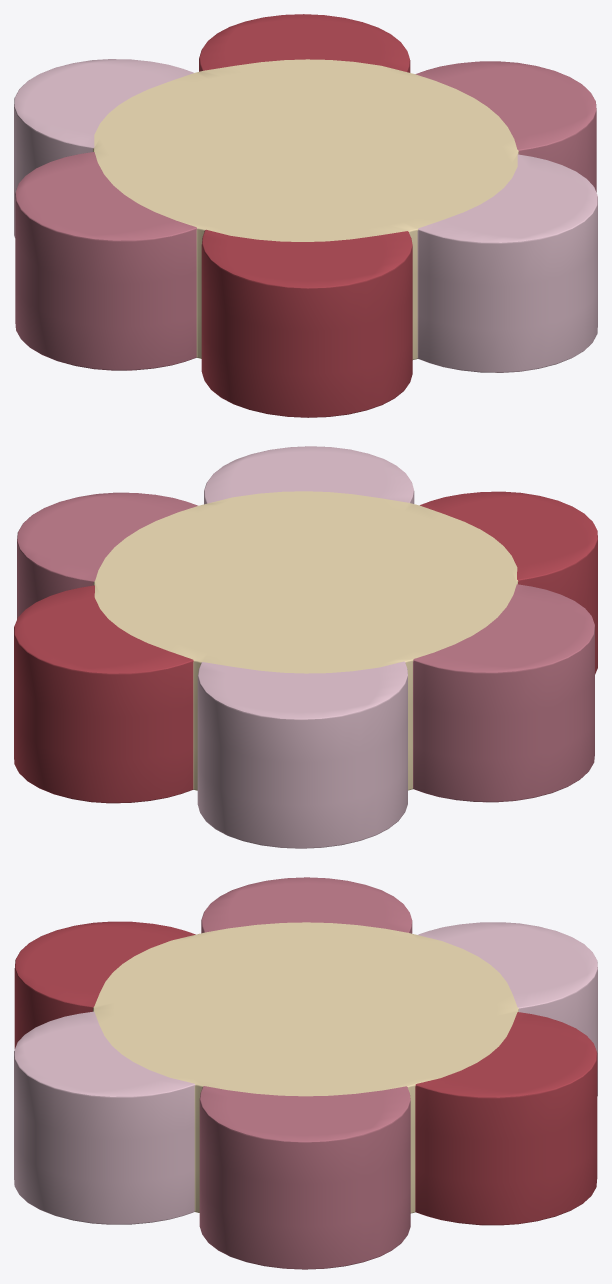
The model's file is red_blomst.glb.
3 renders of one model, top to bottom at view 1: azimuth 30°, elevation 25°; view 2: azimuth 150°, elevation 25°; view 3: azimuth 270°, elevation 25°, orthographic.
Parts seen in each view (by area): view 1: Circle; view 2: Circle; view 3: Circle.
Part boxes in pixels (x1,y1,x2,y2): Circle: (14,14,597,417); Circle: (14,446,597,848); Circle: (14,877,597,1269).
Size of the model in its own units: 0.62 by 0.14 by 0.5778.
